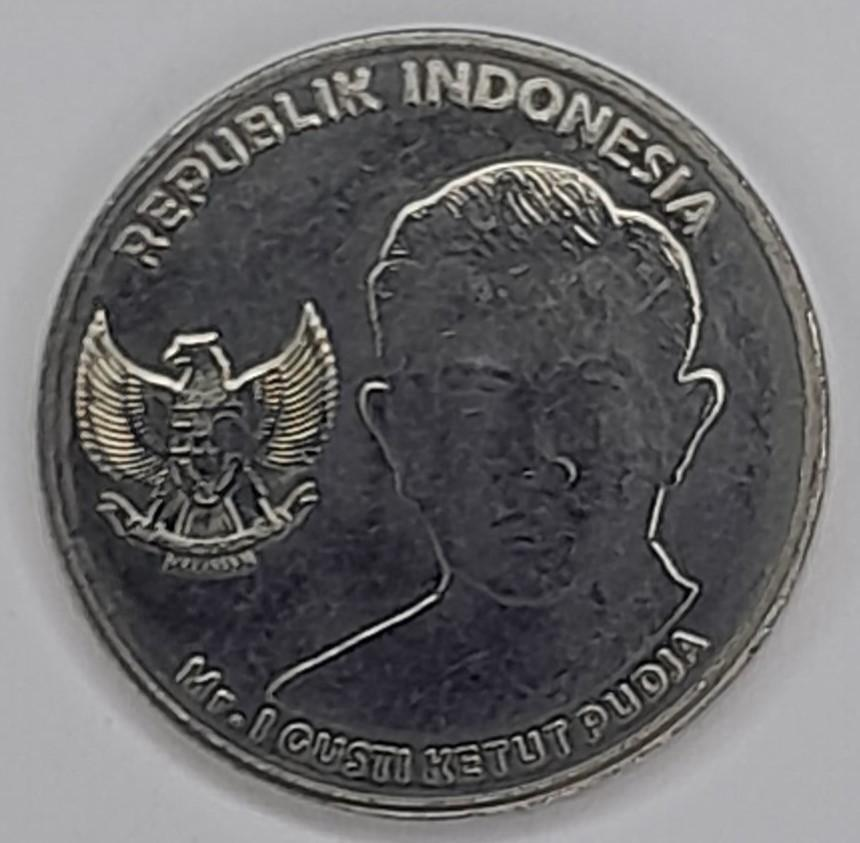coin_1000_e2016: (15, 17, 849, 843)
